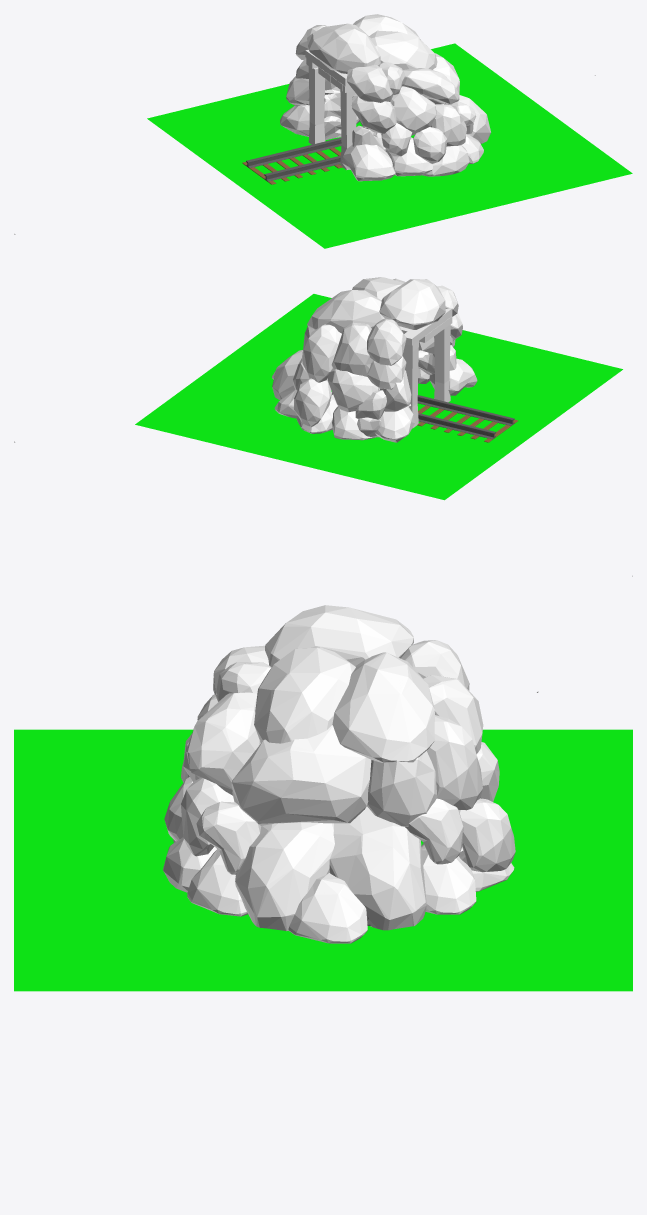
Rendered from MINE12.glb.
3 renders of one model, top to bottom at view 1: azimuth 30°, elevation 25°; view 2: azimuth 150°, elevation 25°; view 3: azimuth 270°, elevation 25°, orthographic. The views are drawn at different scales.
Parts seen in each view (by area): view 1: Plane, rock.086, pCube6, rock.013, rock.006, rock.020, rock.009, rock.004, Cube.001, rock.003, rock.012, rock.008 (+16 smaller); view 2: Plane, rock.086, pCube6, rock.002, rock.019, rock.023, rock.049, rock.054, rock.022, Cube, rock.048, rock.046 (+10 smaller); view 3: Plane, rock.018, rock.002, rock.017, rock.014, rock.013, rock.086, rock.009, rock.016, rock.021, rock.019, rock.022 (+12 smaller).
Boxes of the visible parts, left/top/right/bottom form: Plane: left=147, top=43, right=632, bottom=248; rock.086: left=307, top=23, right=380, bottom=73; pCube6: left=242, top=137, right=413, bottom=184; rock.013: left=369, top=30, right=437, bottom=69; rock.006: left=342, top=144, right=395, bottom=181; rock.020: left=392, top=86, right=436, bottom=135; rock.009: left=402, top=68, right=459, bottom=104; rock.004: left=347, top=65, right=392, bottom=102; Cube.001: left=308, top=66, right=325, bottom=144; rock.003: left=351, top=94, right=396, bottom=133; rock.012: left=431, top=104, right=466, bottom=146; rock.008: left=413, top=127, right=447, bottom=163; Plane: left=135, top=294, right=622, bottom=500; rock.086: left=379, top=279, right=445, bottom=329; pCube6: left=332, top=392, right=517, bottom=442; rock.002: left=307, top=290, right=384, bottom=333; rock.019: left=302, top=324, right=341, bottom=382; rock.023: left=331, top=322, right=372, bottom=376; rock.049: left=367, top=318, right=406, bottom=365; rock.054: left=327, top=369, right=378, bottom=412; rock.022: left=294, top=378, right=331, bottom=426; Cube: left=434, top=324, right=450, bottom=402; rock.048: left=375, top=406, right=414, bottom=442; rock.046: left=367, top=356, right=406, bottom=389; Plane: left=14, top=729, right=632, bottom=991; rock.018: left=231, top=725, right=371, bottom=825; rock.002: left=332, top=652, right=434, bottom=762; rock.017: left=329, top=806, right=426, bottom=930; rock.014: left=235, top=822, right=334, bottom=931; rock.013: left=254, top=647, right=355, bottom=743; rock.086: left=265, top=605, right=413, bottom=667; rock.009: left=186, top=692, right=260, bottom=795; rock.016: left=288, top=873, right=367, bottom=943; rock.021: left=367, top=751, right=436, bottom=826; rock.019: left=426, top=715, right=482, bottom=810; rock.022: left=458, top=798, right=515, bottom=872.
Size of the model in its own units: 29.33 by 8.54 by 15.1.
